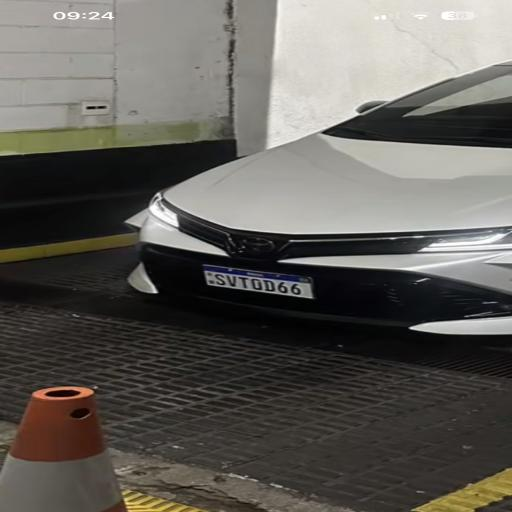detec-o-placas: (127, 239, 394, 327)
